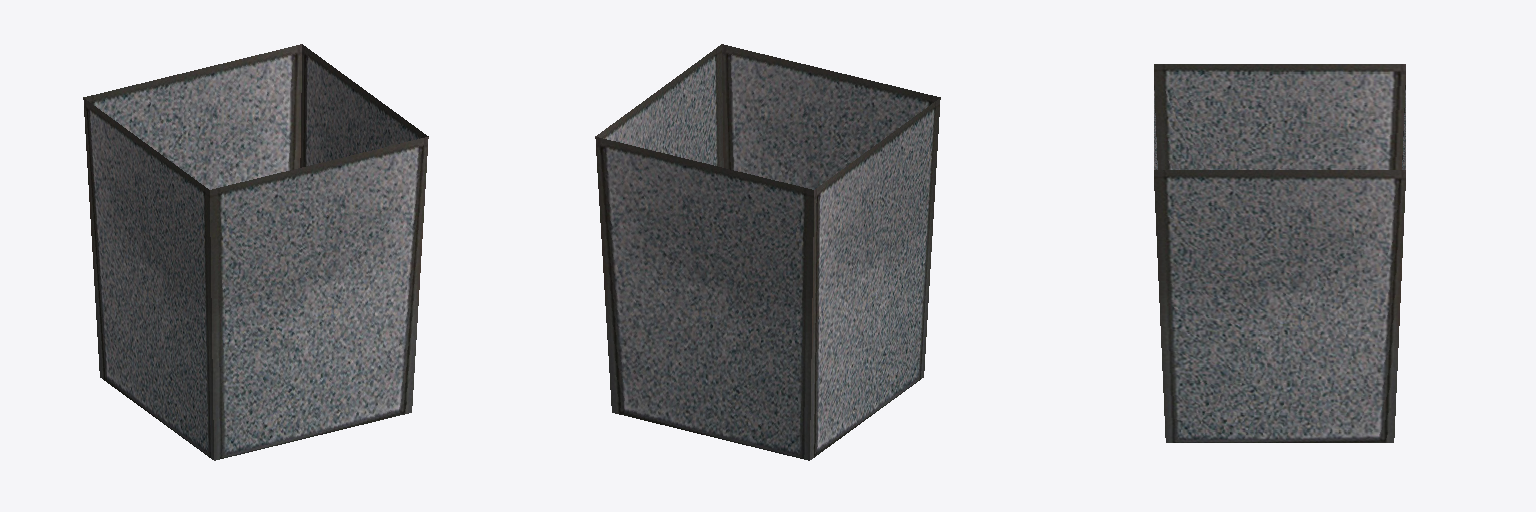
3 views of the same model, side by side, from view 1: azimuth 30°, elevation 25°; view 2: azimuth 150°, elevation 25°; view 3: azimuth 270°, elevation 25° (orthographic).
Visible parts, largest first — view 1: trashCan_2_v1; view 2: trashCan_2_v1; view 3: trashCan_2_v1.
Part boxes in pixels (x1,y1,x2,y2): trashCan_2_v1: (83, 44, 428, 460); trashCan_2_v1: (595, 44, 940, 460); trashCan_2_v1: (1154, 64, 1405, 442).
Size of the model in its own units: 0.8606 by 1.04 by 0.8606.
Materials: 1 (1 with a texture image).